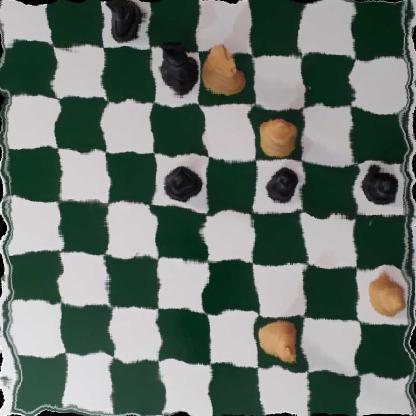black-king: (154, 33, 194, 97)
black-pawn: (159, 161, 205, 208), (362, 162, 398, 207), (261, 165, 300, 206)
black-rook: (103, 0, 148, 42)
white-bishop: (254, 116, 296, 160)
white-king: (260, 313, 303, 365)
white-pawn: (364, 273, 406, 318)
white-rook: (197, 48, 243, 98)
